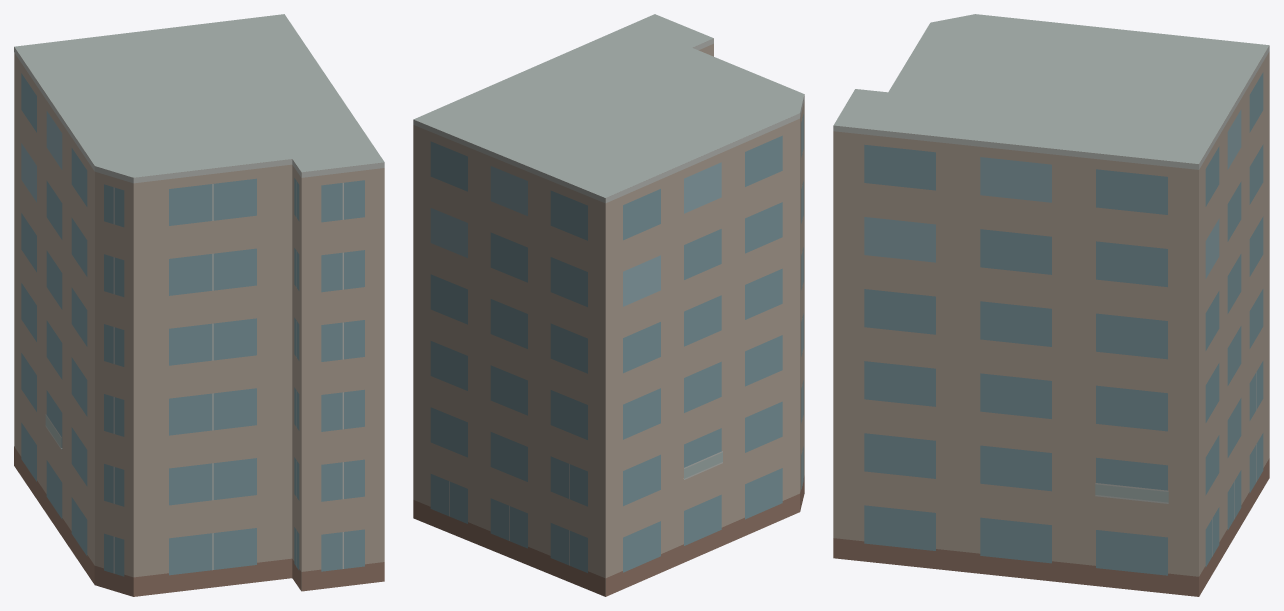
Rendered from survey-upis-32900898.glb.
3 views of the same model, side by side, from view 1: azimuth 30°, elevation 25°; view 2: azimuth 150°, elevation 25°; view 3: azimuth 270°, elevation 25° (orthographic). The views are drawn at different scales.
Parts seen in each view (by area): view 1: survey-upis-32900898.tmp; view 2: survey-upis-32900898.tmp; view 3: survey-upis-32900898.tmp.
Part boxes in pixels (x1,y1,x2,y2): survey-upis-32900898.tmp: [14, 14, 384, 596]; survey-upis-32900898.tmp: [413, 14, 804, 596]; survey-upis-32900898.tmp: [833, 14, 1269, 596].
Bounding box in the file's own units: 13.63 × 18.3 × 16.73.
